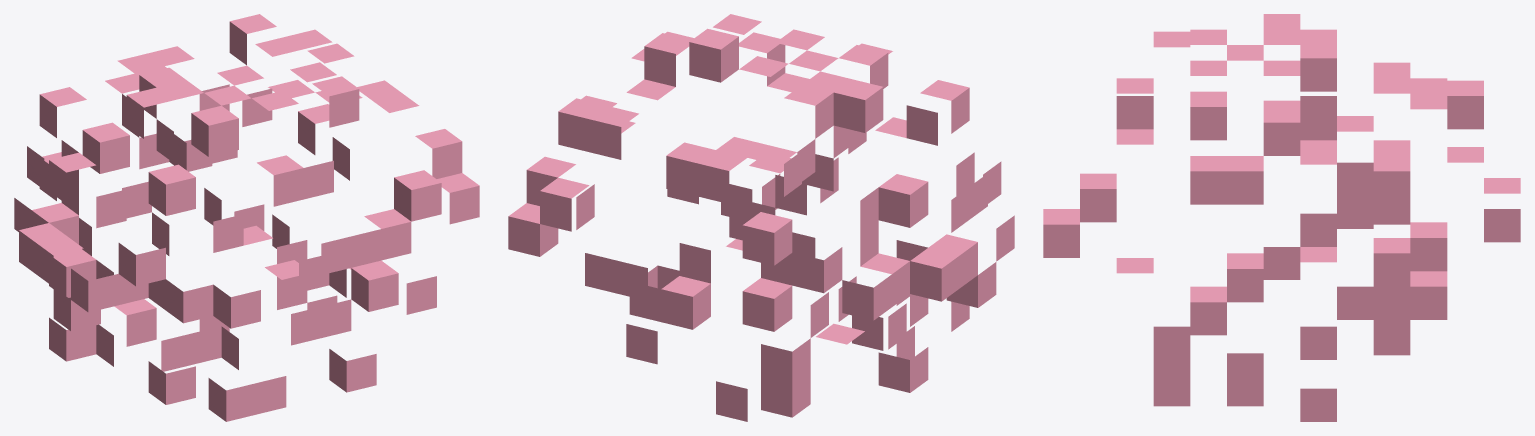
The model's file is tree-cherry-1-pink1-ffa8c4.gltf.
The picture shows the model from 3 angles, left to right: view 1: azimuth 30°, elevation 25°; view 2: azimuth 150°, elevation 25°; view 3: azimuth 270°, elevation 25°; orthographic projection. The views are drawn at different scales.
Visible parts, largest first — view 1: tree-cherry-1-pink1-ffa8c4; view 2: tree-cherry-1-pink1-ffa8c4; view 3: tree-cherry-1-pink1-ffa8c4.
Part boxes in pixels (x1,y1,x2,y2): tree-cherry-1-pink1-ffa8c4: (14, 14, 479, 421); tree-cherry-1-pink1-ffa8c4: (508, 14, 1014, 421); tree-cherry-1-pink1-ffa8c4: (1043, 14, 1520, 421).
Bounding box in the file's own units: 13 × 10 × 13.
